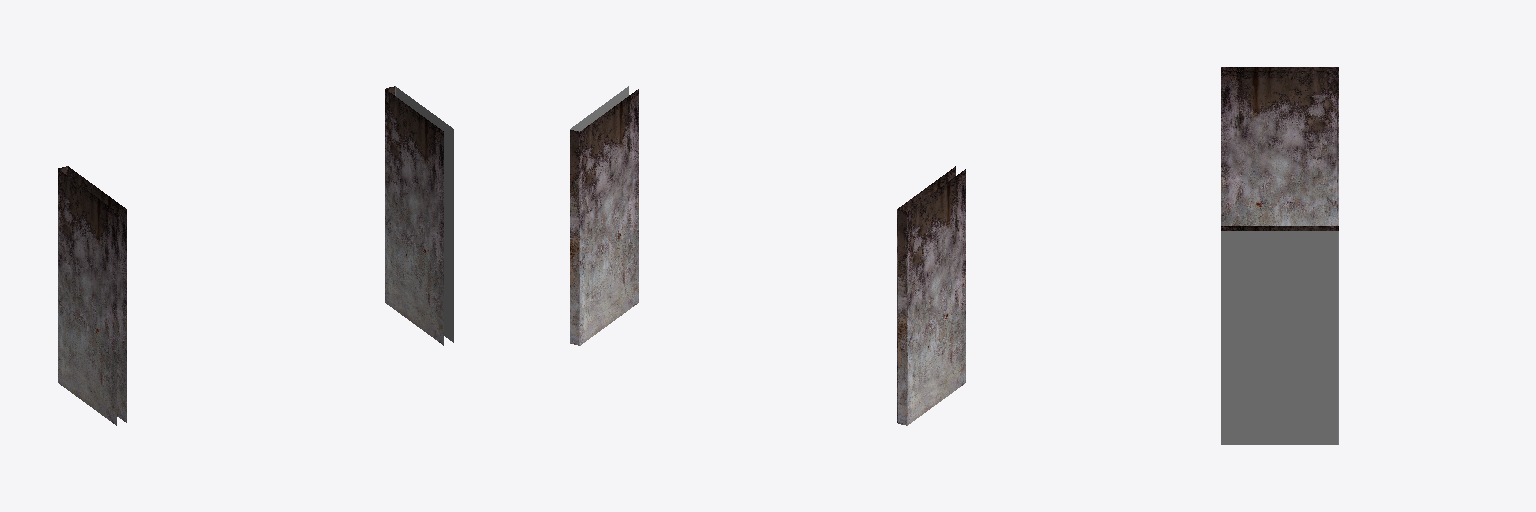
3 renders of one model, left to right at view 1: azimuth 30°, elevation 25°; view 2: azimuth 150°, elevation 25°; view 3: azimuth 270°, elevation 25°, orthographic.
Visible parts, largest first — view 1: ElevatorLeftDoor; view 2: ElevatorLeftDoor; view 3: ElevatorLeftDoor.
Boxes of the visible parts, box(x1,y1,x2,y2) form: ElevatorLeftDoor: box(58, 86, 453, 425); ElevatorLeftDoor: box(570, 86, 965, 425); ElevatorLeftDoor: box(1221, 67, 1338, 444).
Size of the model in its own units: 3.3 by 2 by 1.
Materials: 2 (1 with a texture image).